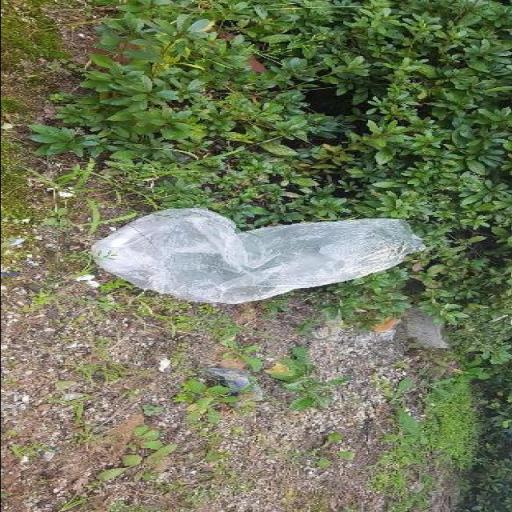plastic-bag: (86, 206, 424, 304)
